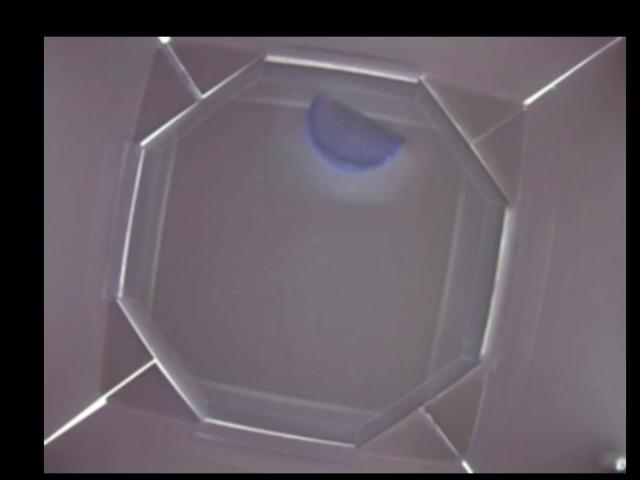Mooli: (304, 93, 407, 173)
